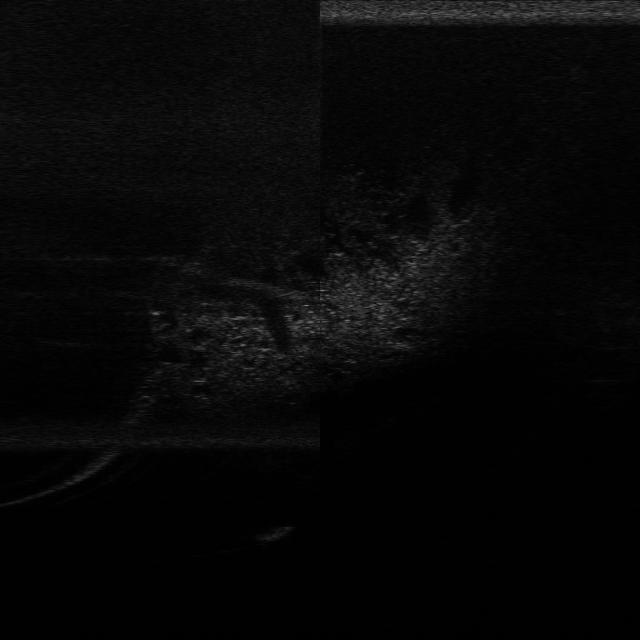cylinder: (256, 518, 300, 544)
